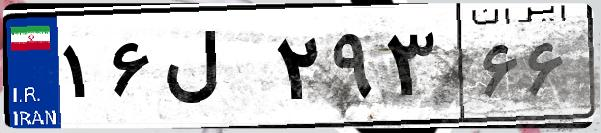1: (57, 26, 110, 100)
2: (270, 28, 330, 110)
3: (385, 28, 445, 110)
6: (475, 38, 525, 113), (525, 38, 570, 115), (110, 28, 158, 98)
9: (330, 28, 385, 110)
ل: (158, 20, 270, 120)
